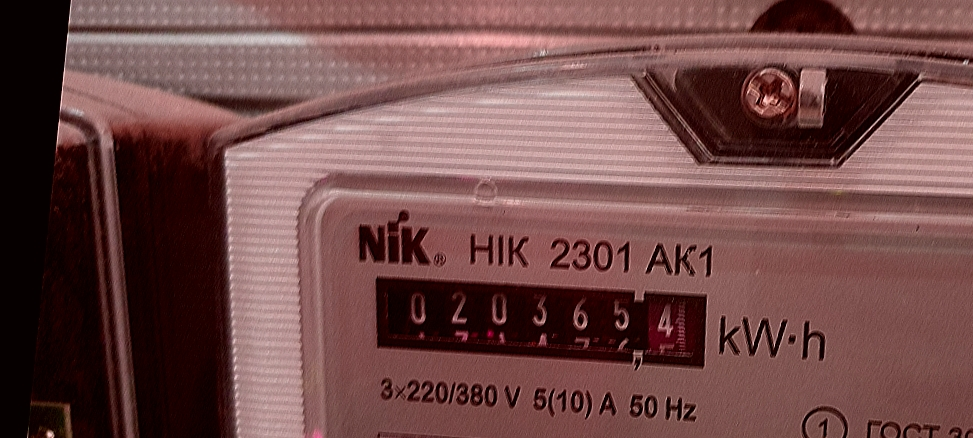0: (406, 289, 430, 324), (488, 289, 510, 326)
2: (445, 287, 471, 325)
3: (529, 290, 551, 327)
4: (655, 301, 677, 337)
5: (609, 297, 633, 331)
6: (569, 294, 592, 331)
screen: (352, 250, 729, 389)
